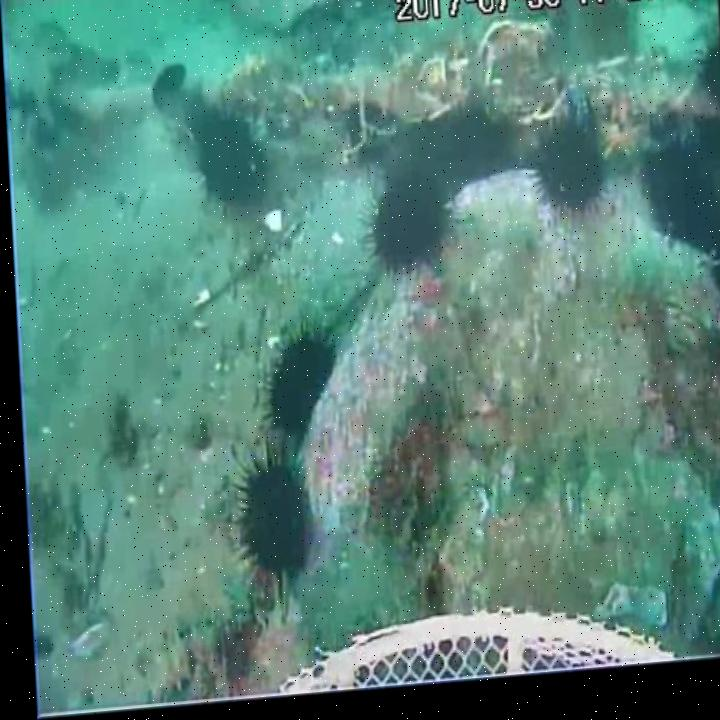echinus: (210, 440, 317, 596), (641, 142, 720, 268), (256, 329, 336, 452), (366, 179, 452, 284), (529, 123, 608, 233), (414, 110, 515, 194), (197, 113, 270, 218), (693, 53, 720, 124)
holothurian: (128, 614, 222, 707)
